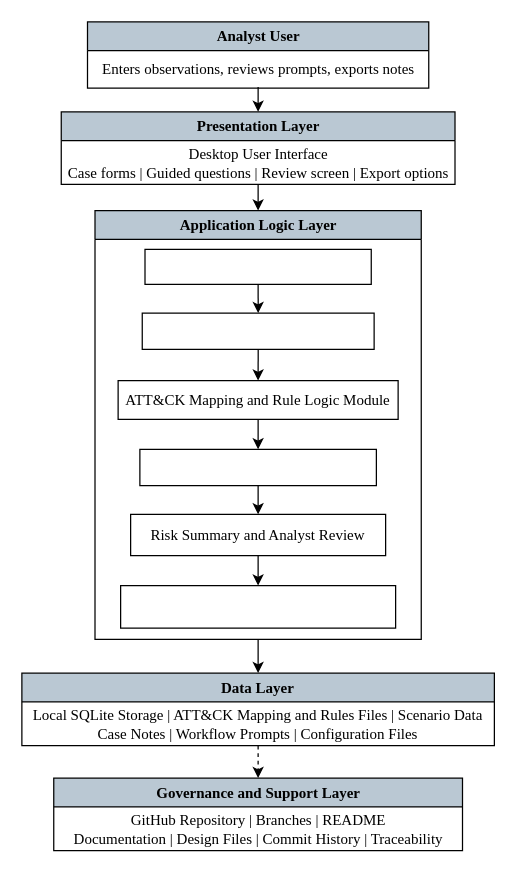
Image size: 516x873. Some labels were removed from this diagram. The shapes that lost their labels are listed below. From the top down, each one's centre as x and y in pixels, then its label:
the point at 257,266: Case Intake and Observation Entry
the point at 257,330: Branching Triage Workflow Engine
the point at 257,467: Evidence Recommendation Module
the point at 257,606: Export and Case Documentation Module
